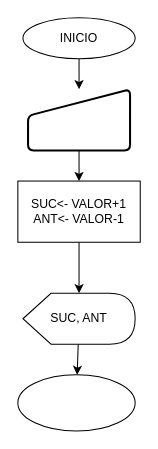
Some shapes in this 158 by 449 pixel diagram are drawn without their labels. The box of each missing label's shape, as (x1, y1, x2, y2) in pixels:
FIM: (17, 374, 135, 431)
VALOR: (27, 88, 131, 151)
